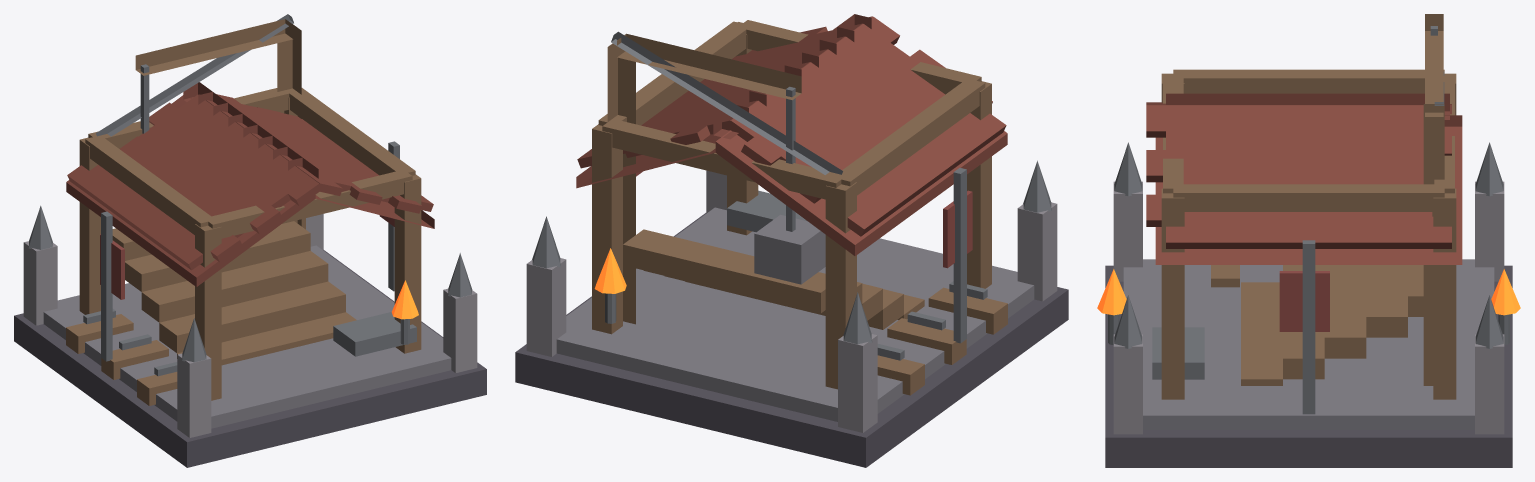
The model's file is builders_yard.glb.
The picture shows the model from 3 angles, left to right: view 1: azimuth 30°, elevation 25°; view 2: azimuth 150°, elevation 25°; view 3: azimuth 270°, elevation 25°; orthographic projection. The views are drawn at different scales.
Visible parts, largest first — view 1: Builders Yard; view 2: Builders Yard; view 3: Builders Yard.
Part boxes in pixels (x1,y1,x2,y2): Builders Yard: [14, 14, 486, 467]; Builders Yard: [515, 14, 1068, 467]; Builders Yard: [1097, 14, 1520, 467].
Bounding box in the file's own units: 3.9 × 3.59 × 4.06.
